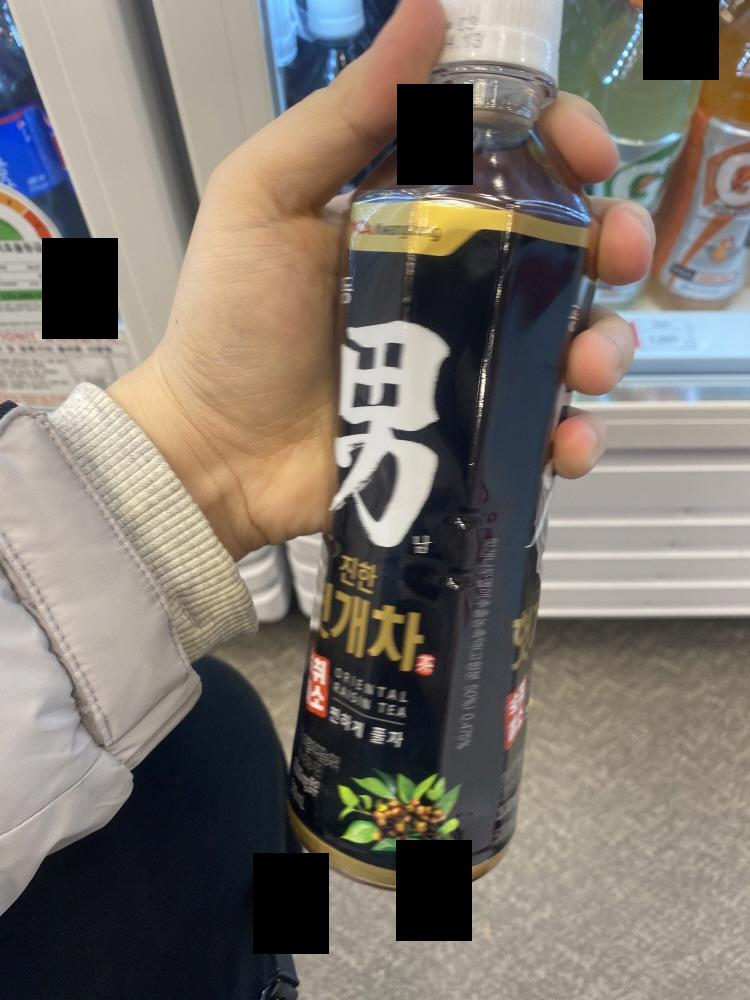heotgaecha: (273, 0, 584, 907)
